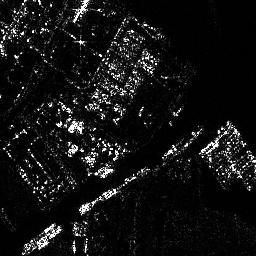ship: (22, 221, 59, 252)
